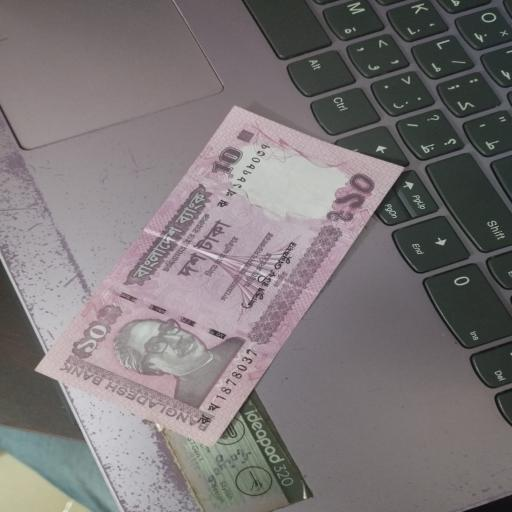10taka: (26, 100, 415, 453)
